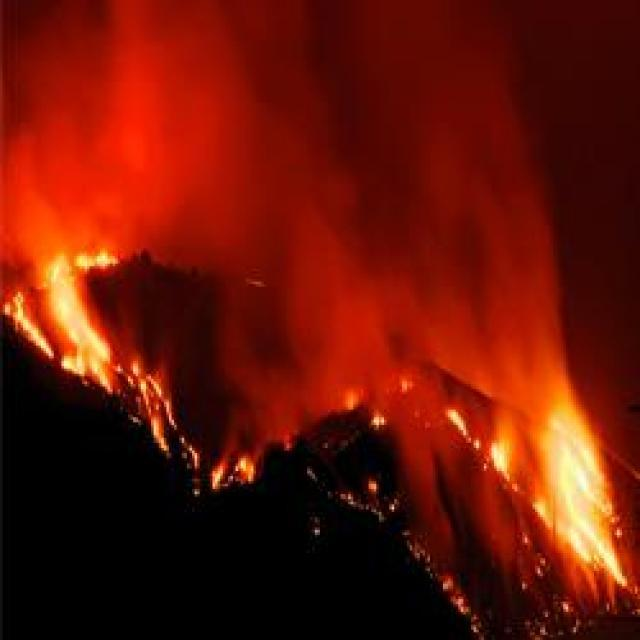Fire: (546, 402, 632, 564), (16, 266, 122, 378)
